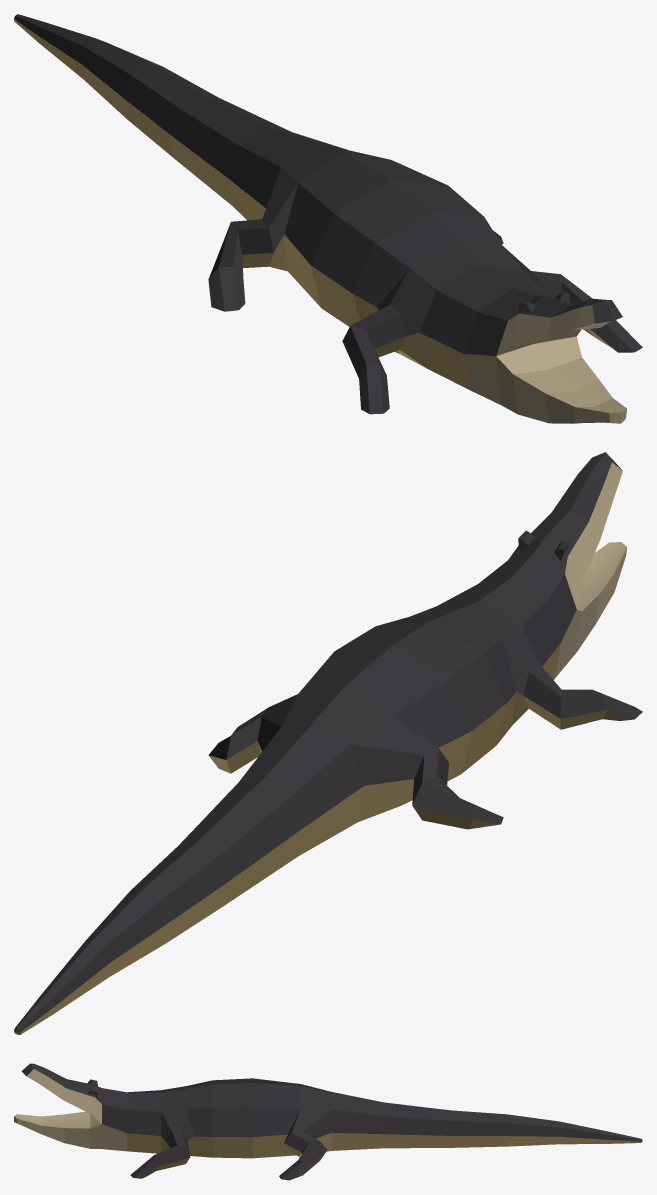
File: Mesh_Crocodile.obj
3 renders of one model, top to bottom at view 1: azimuth 30°, elevation 25°; view 2: azimuth 150°, elevation 25°; view 3: azimuth 270°, elevation 25°, orthographic. The views are drawn at different scales.
Visible parts, largest first — view 1: Geo_Crocodile; view 2: Geo_Crocodile; view 3: Geo_Crocodile.
Part boxes in pixels (x1,y1,x2,y2): Geo_Crocodile: [14, 14, 642, 423]; Geo_Crocodile: [14, 452, 642, 1034]; Geo_Crocodile: [14, 1063, 642, 1180].
Bounding box in the file's own units: 69.89 × 36.64 × 253.
1 material, 1 textured.
